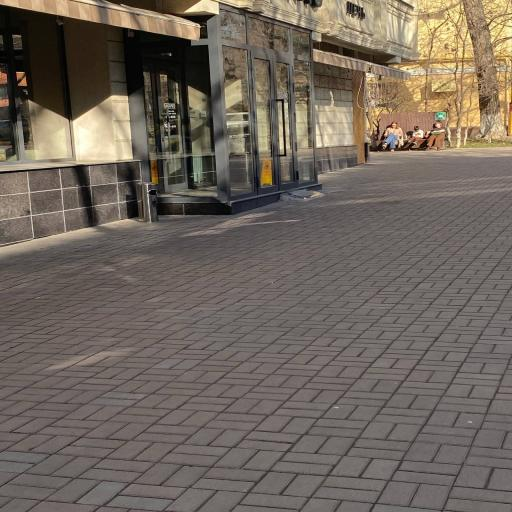crosswalk: (382, 122, 403, 152)
glass_wall: (0, 148, 511, 511)
trash_bin: (376, 112, 450, 150)
